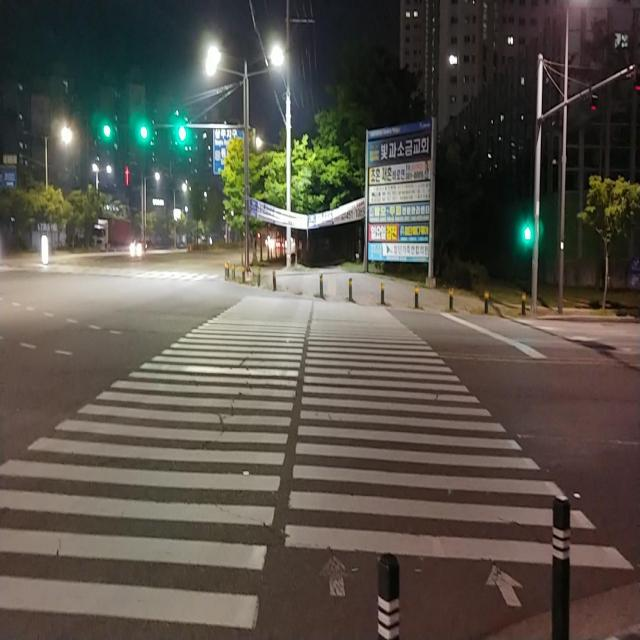초록불: (524, 201, 532, 244)
횡단보도: (0, 291, 638, 634), (0, 259, 227, 286)
